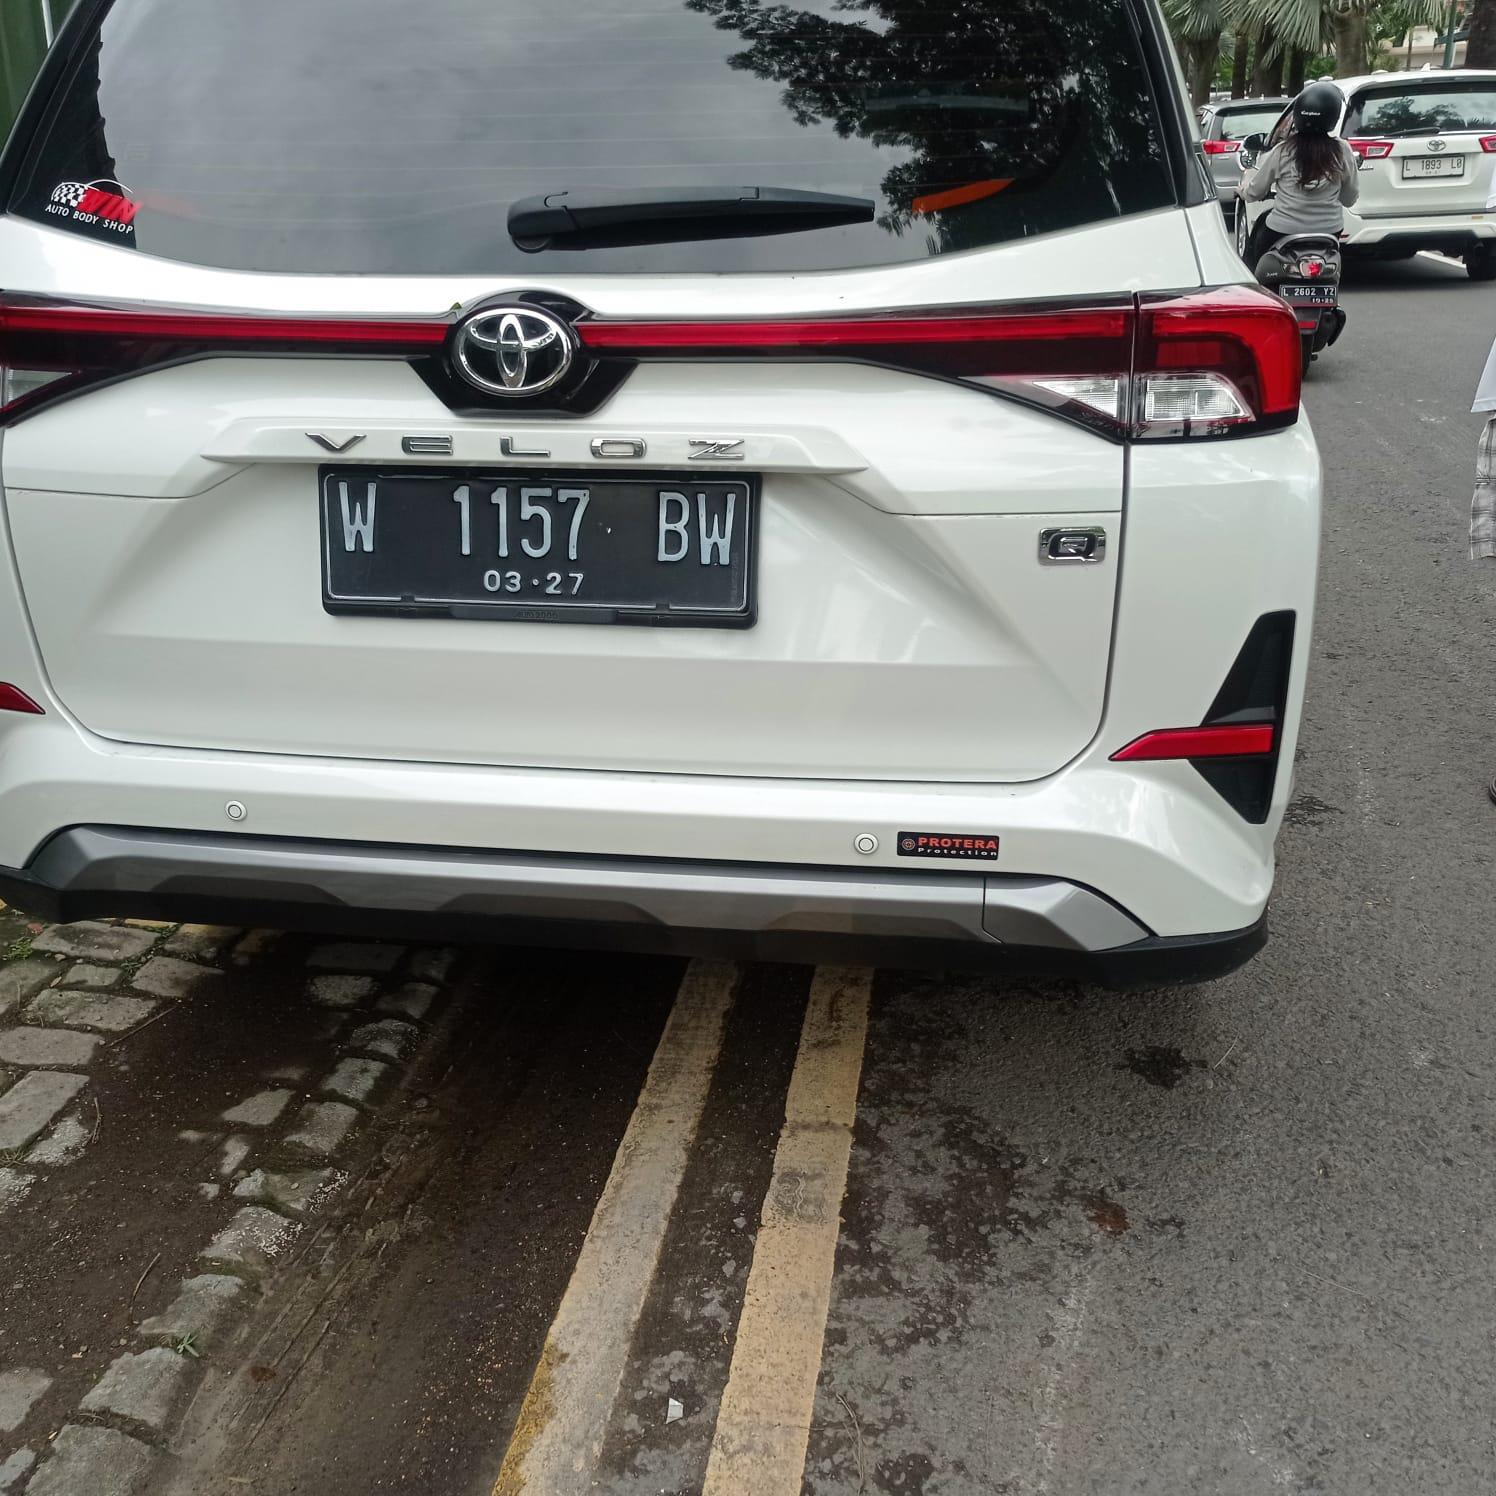plat: (322, 467, 756, 625)
